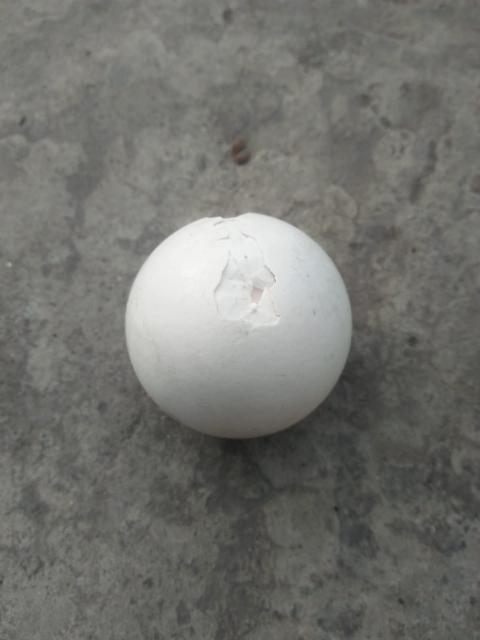Roto: (124, 211, 353, 440)
